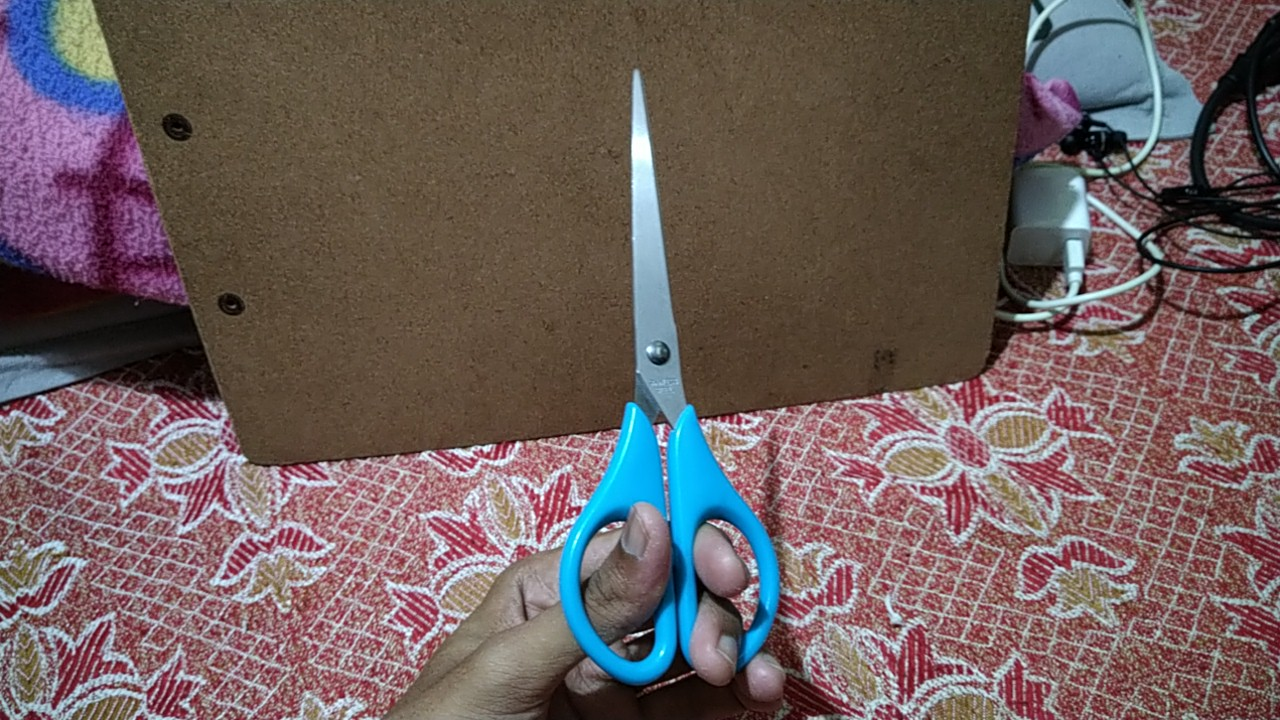scissor: (549, 53, 792, 689)
